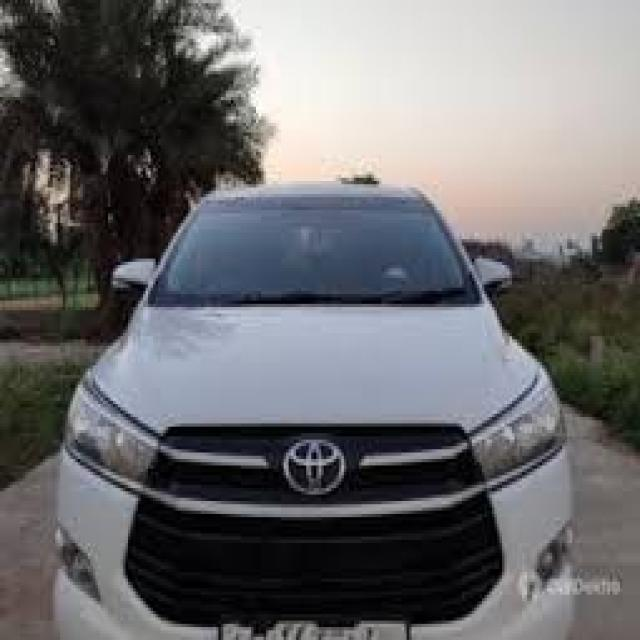light_vehicle: (54, 181, 574, 640)
